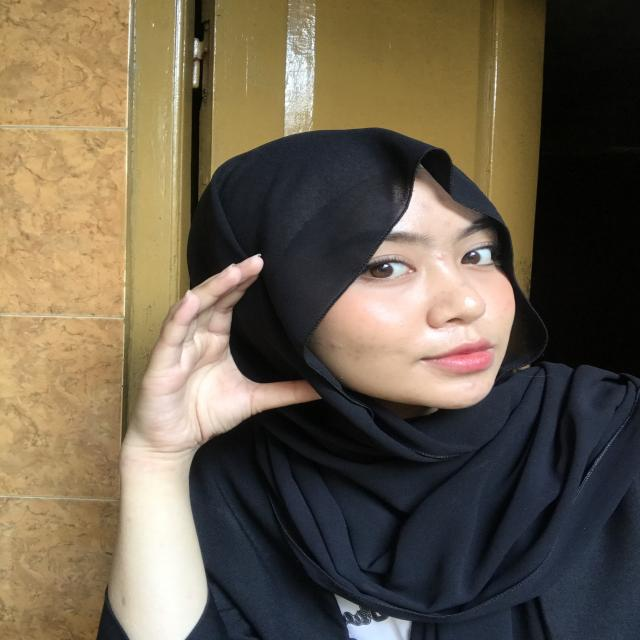mendengar: (122, 247, 340, 462)
